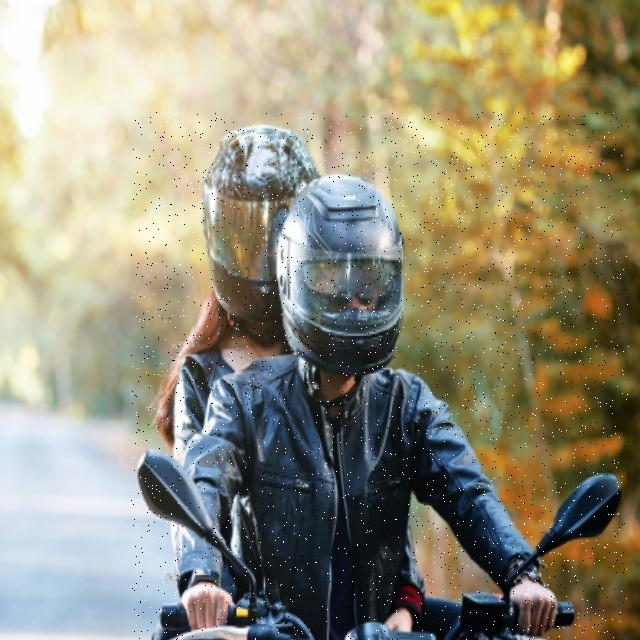With Helmet: (131, 112, 629, 640)
